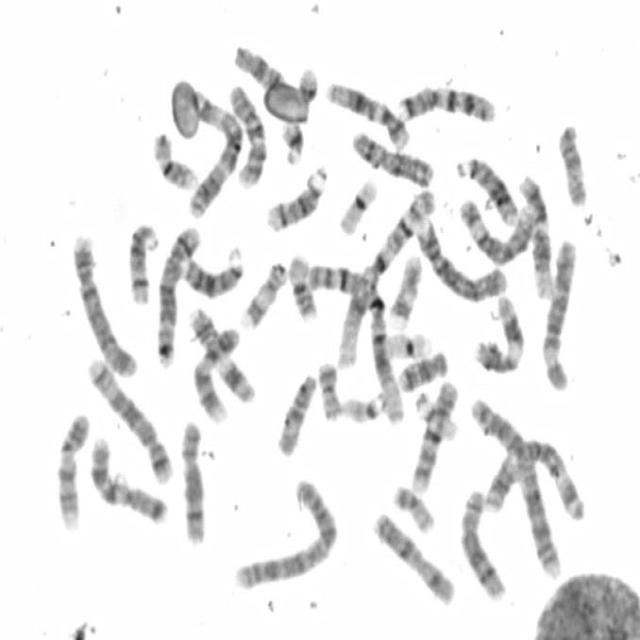A1: (332, 183, 437, 373), (304, 255, 404, 427)
A2: (470, 391, 565, 582), (229, 474, 339, 593)
A3: (467, 393, 587, 523), (186, 88, 244, 221)
B4: (68, 231, 139, 379), (413, 216, 509, 304)
B5: (85, 354, 175, 485), (153, 220, 202, 368)
C10: (408, 377, 460, 496), (225, 81, 268, 189)
C11: (186, 304, 256, 406), (470, 291, 525, 377)
C12: (322, 76, 410, 150), (516, 169, 553, 300)
C6: (538, 236, 579, 394), (455, 194, 538, 267)
C7: (86, 431, 169, 526), (393, 82, 498, 123)
C8: (457, 486, 508, 604), (176, 416, 206, 548)
C9: (190, 322, 242, 426), (52, 408, 91, 532)
D13: (453, 152, 519, 225), (180, 244, 243, 302)
D14: (262, 160, 328, 234), (124, 219, 160, 305)
D15: (273, 368, 318, 458), (554, 117, 589, 208)
E16: (149, 127, 198, 192), (286, 250, 319, 322)
E17: (238, 258, 289, 332), (386, 250, 424, 324)
E18: (233, 43, 288, 96), (395, 347, 449, 393)
F19: (336, 175, 379, 237), (383, 328, 432, 360)
F20: (390, 480, 437, 534), (315, 358, 343, 422)
G21: (278, 118, 306, 166), (292, 64, 319, 110)
G22: (412, 389, 459, 441), (340, 388, 388, 426)
X: (370, 509, 456, 608), (348, 127, 435, 189)
